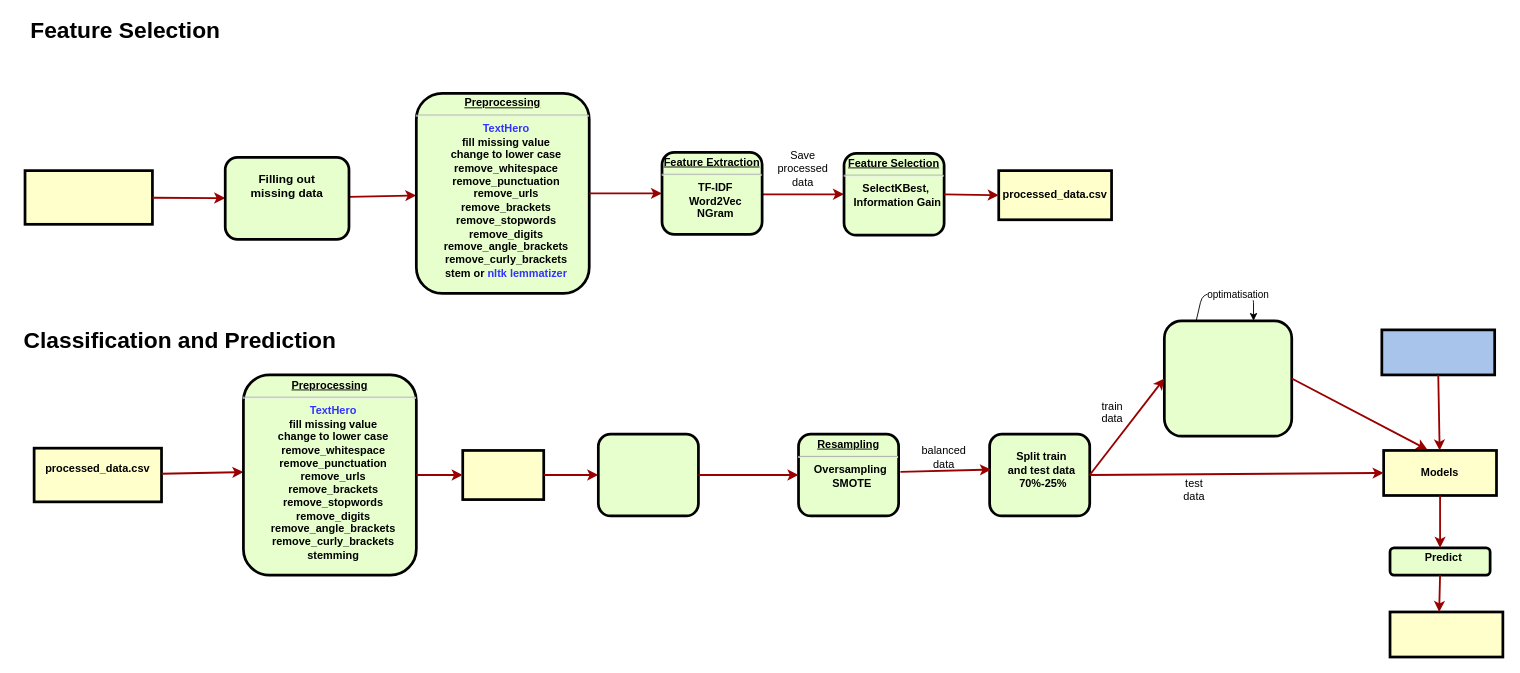
Some shapes in this 1520 by 673 pixel diagram are drawn without their labels. Each missing label, with the box of its shape:
Categories: (1388, 610, 1504, 658)
Classification Random Forest SVM SGD RNN XGBoost LogisticRegression: (1163, 319, 1293, 437)
clean text: (461, 449, 545, 500)
DATA (cleaned_incidents2.csv): (23, 169, 153, 225)
Feature Extraction TF-IDF (5000): (597, 432, 699, 517)
Website: (1380, 328, 1496, 376)
